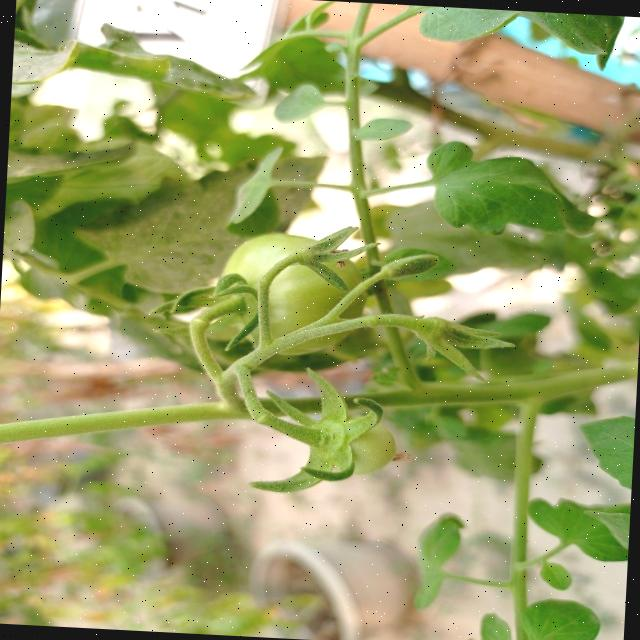Unripe: (212, 230, 366, 356)
